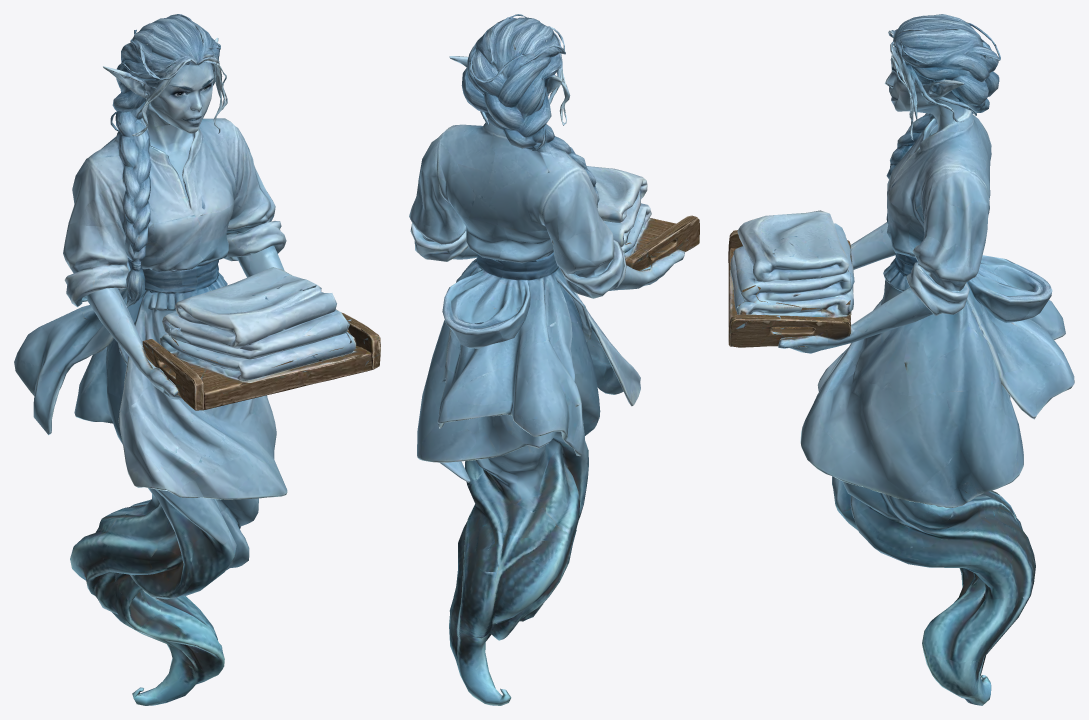
Rendered from ghost-laundress.glb.
3 views of the same model, side by side, from view 1: azimuth 30°, elevation 25°; view 2: azimuth 150°, elevation 25°; view 3: azimuth 270°, elevation 25° (orthographic). The views are drawn at different scales.
Parts seen in each view (by area): view 1: body, item; view 2: body, item; view 3: body, item.
Boxes of the visible parts, x1,y1,x2,y2 form: body: (14,14,380,705); item: (142,267,380,410); body: (409,14,699,705); item: (586,166,699,270); body: (728,14,1074,705); item: (728,210,851,347).
Bounding box in the file's own units: 0.6109 × 1.9 × 0.8766.
1 material, 1 textured.
